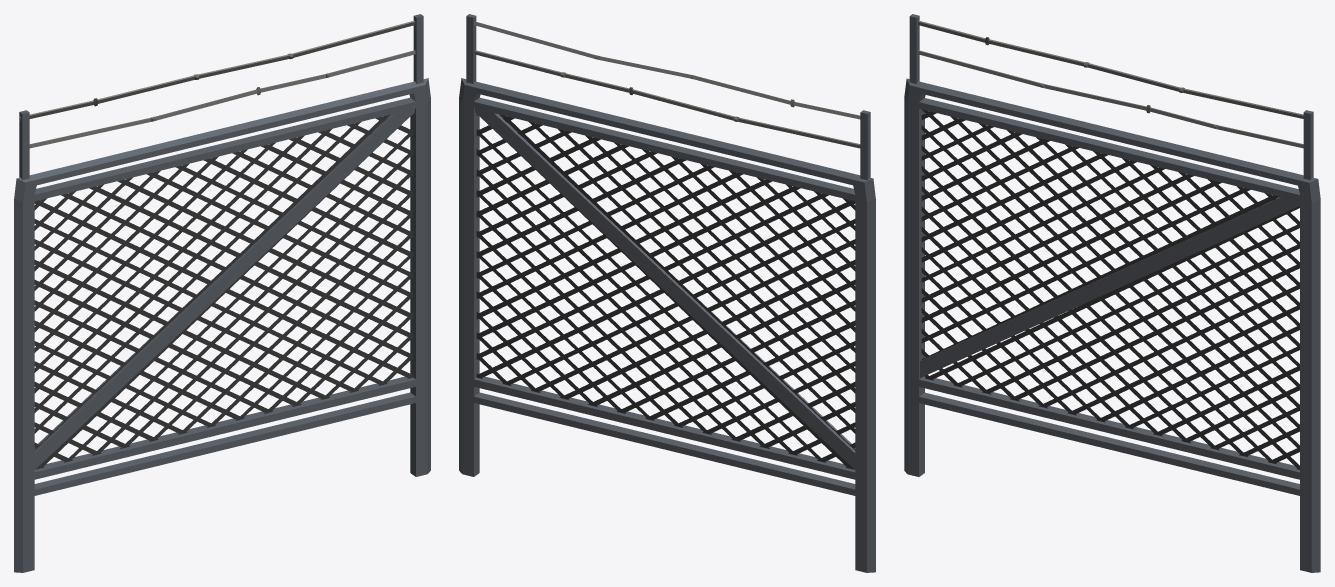
Rendered from SM_Prop_Fence_02.glb.
The picture shows the model from 3 angles, left to right: view 1: azimuth 30°, elevation 25°; view 2: azimuth 150°, elevation 25°; view 3: azimuth 330°, elevation 25°; orthographic projection.
Parts seen in each view (by area): view 1: SM_Prop_Fence_02; view 2: SM_Prop_Fence_02; view 3: SM_Prop_Fence_02.
Boxes of the visible parts, x1=… form: SM_Prop_Fence_02: x1=14, y1=14, x2=430, y2=572; SM_Prop_Fence_02: x1=459, y1=14, x2=875, y2=572; SM_Prop_Fence_02: x1=904, y1=14, x2=1320, y2=572.
Bounding box in the file's own units: 3.03 × 3.19 × 0.0724.
Materials: 2 (2 with a texture image).
